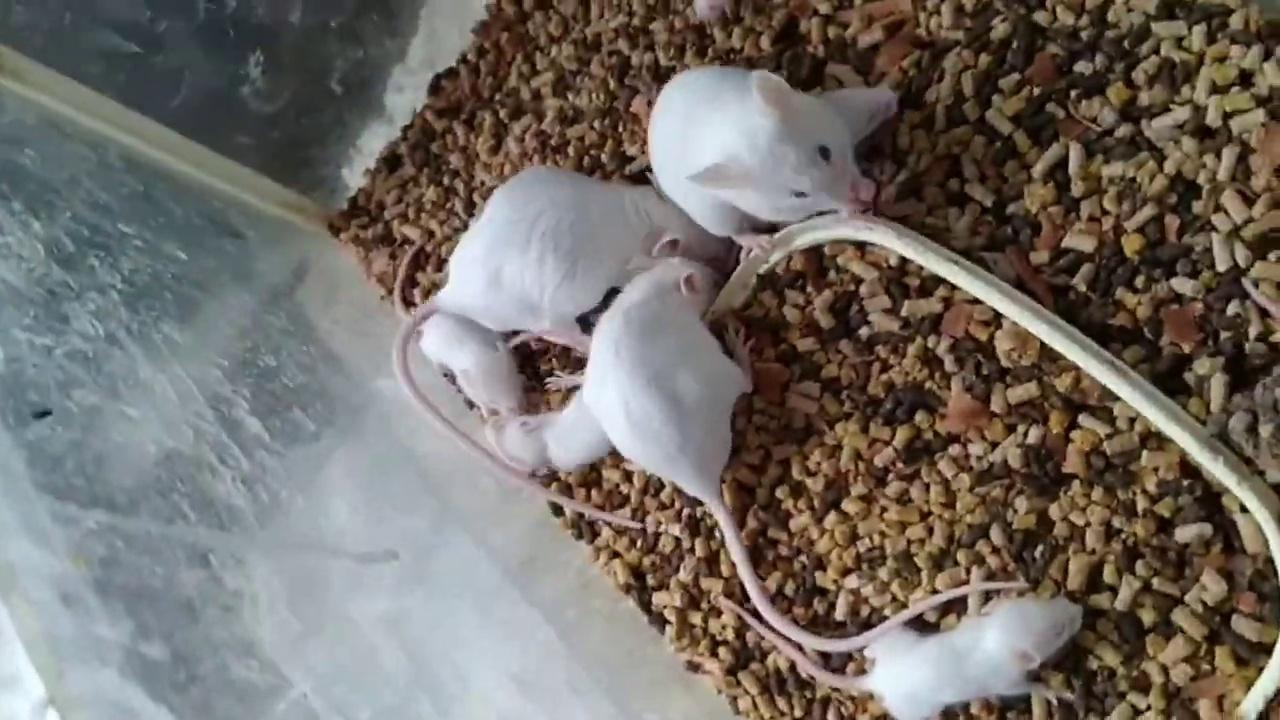rat: (585, 256, 1030, 653), (394, 164, 728, 527), (718, 595, 1084, 720), (646, 65, 878, 262), (398, 240, 526, 416)
